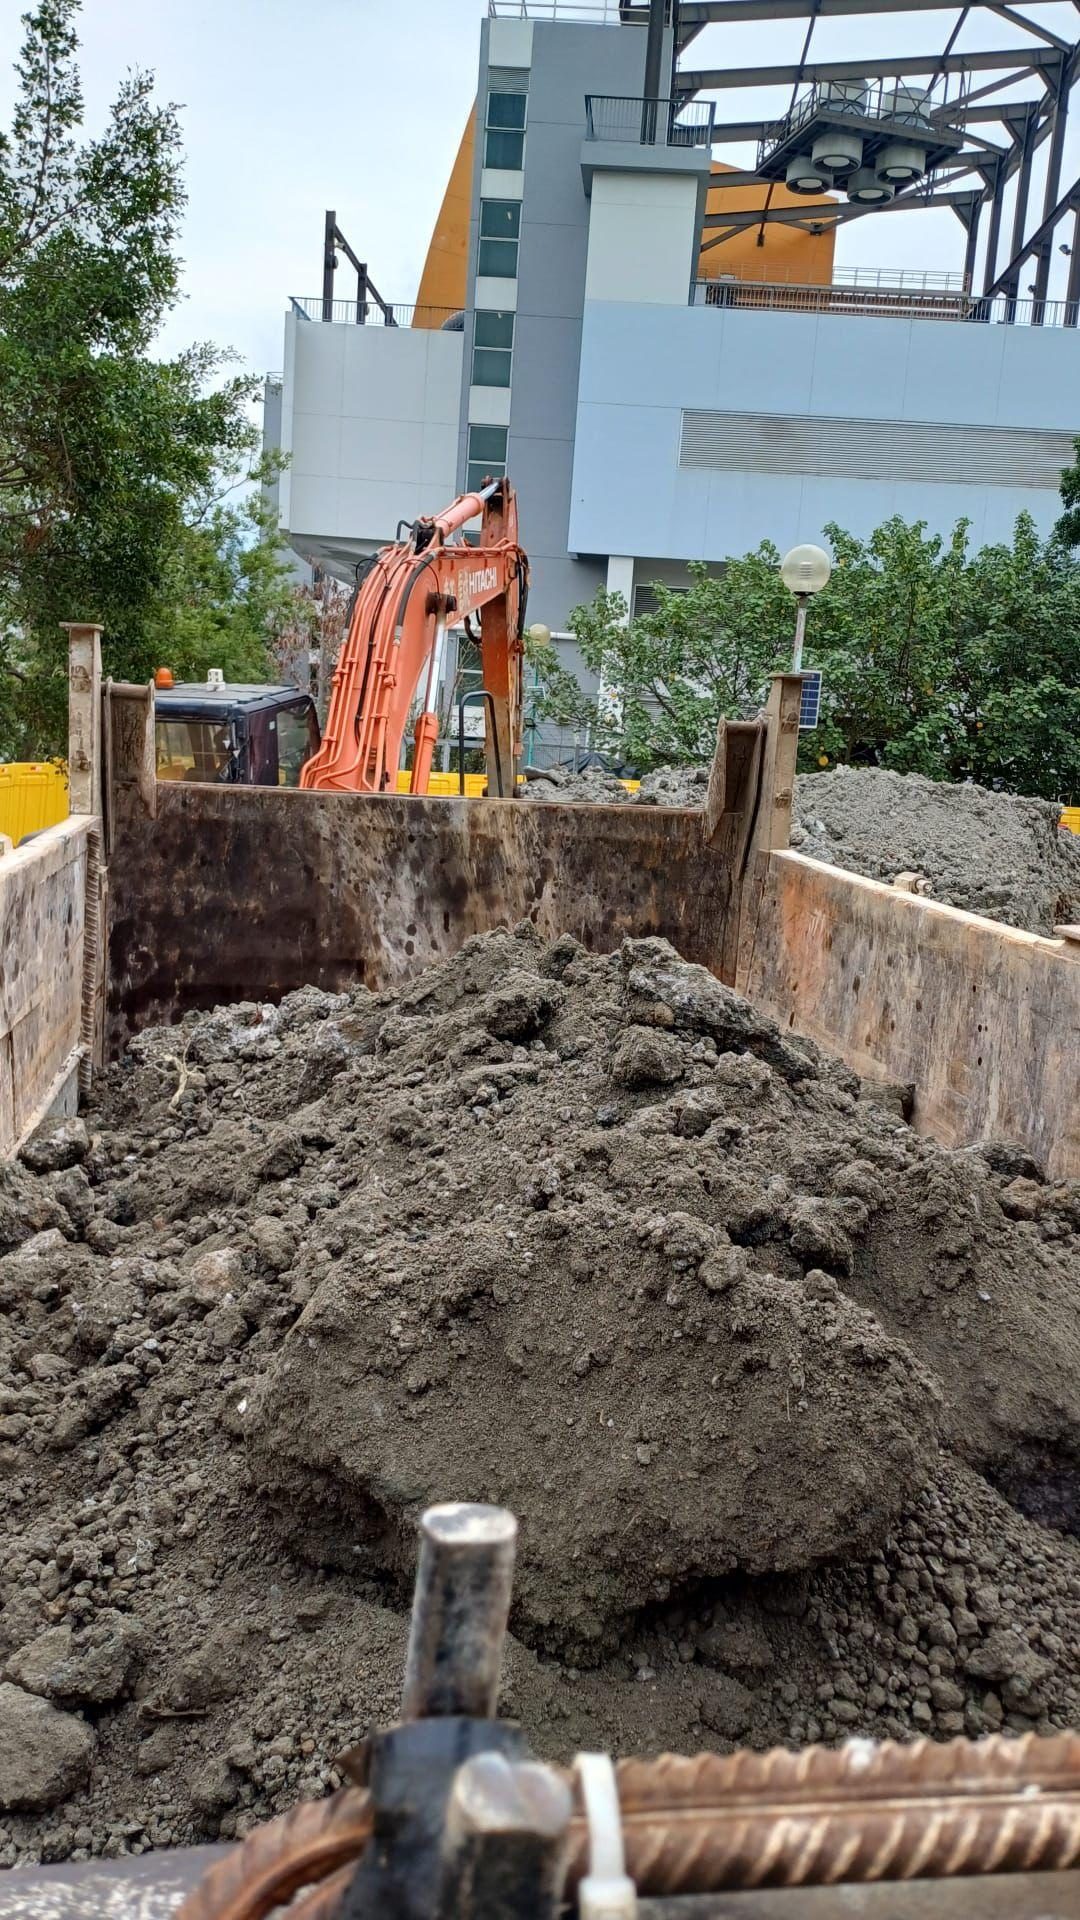wet: (13, 947, 1080, 1846)
